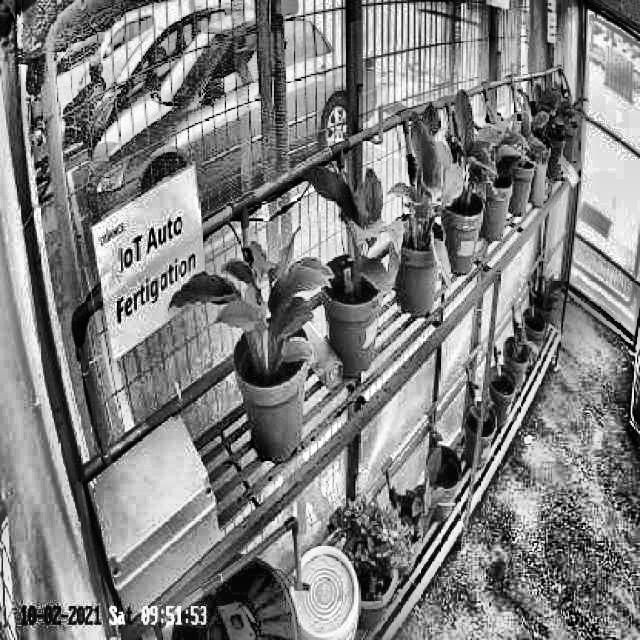plants: (168, 225, 334, 366), (304, 158, 404, 291), (390, 108, 453, 284), (436, 90, 498, 212)
